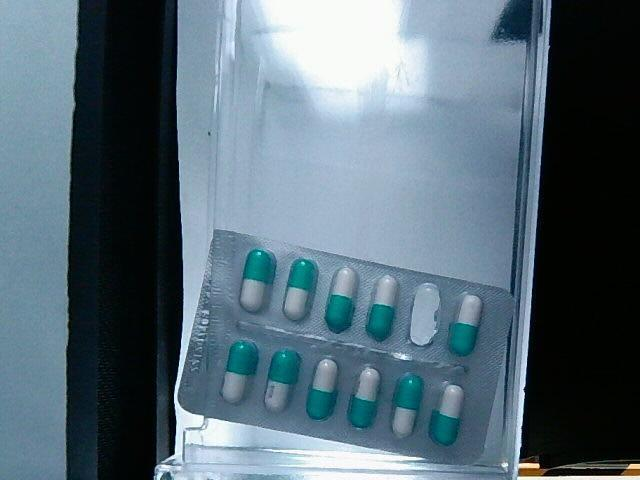Light Front: (177, 226, 517, 468)
No Pill Front: (410, 283, 440, 346)
Pill Front: (283, 258, 319, 321), (325, 266, 358, 333), (366, 275, 397, 341), (221, 341, 254, 403), (264, 350, 297, 412), (393, 373, 424, 438), (449, 295, 482, 356), (348, 366, 380, 428), (240, 249, 271, 312), (306, 359, 337, 420), (436, 385, 463, 445)
